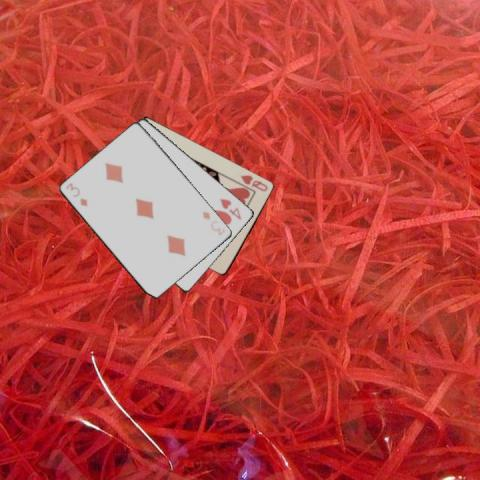3d: (200, 208, 227, 237), (63, 180, 90, 208)
4h: (217, 196, 243, 222)
Qh: (238, 172, 269, 193)
